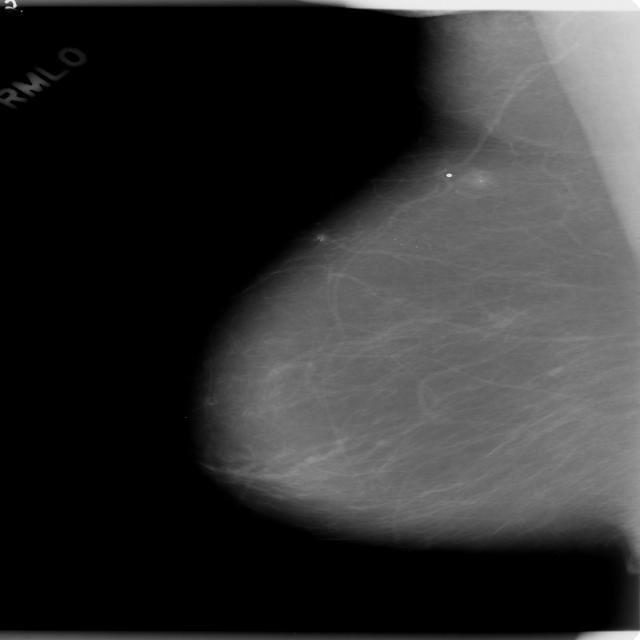normal: (182, 11, 640, 538)
